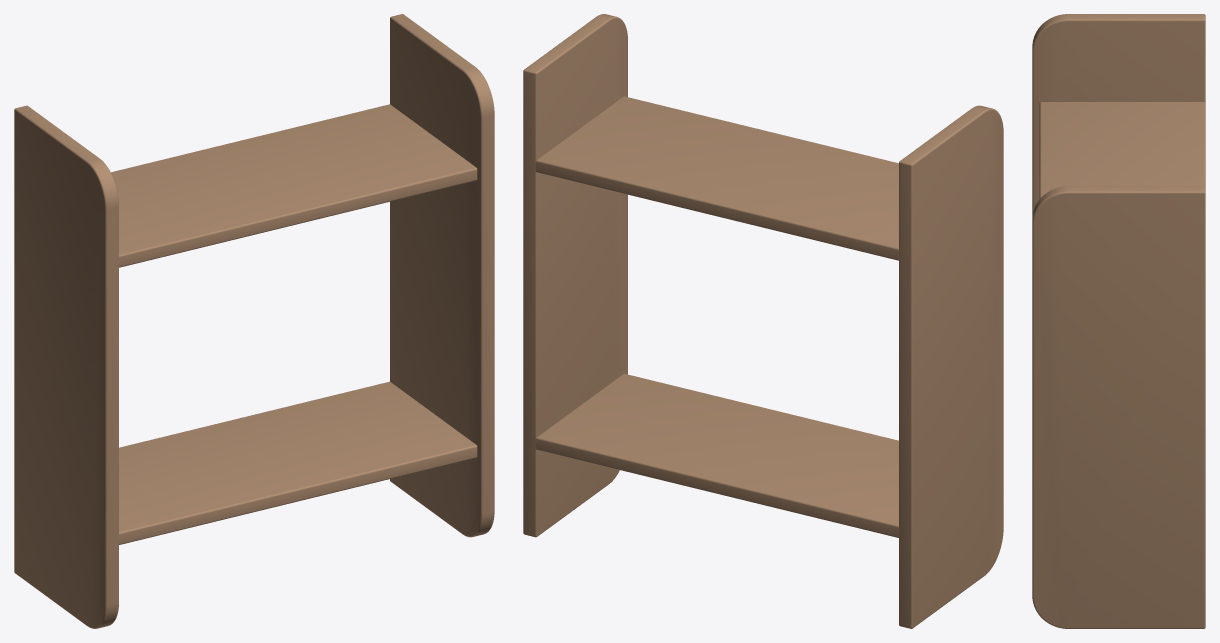
Rendered from wall_shelf__8732f5e14a30.glb.
3 views of the same model, side by side, from view 1: azimuth 30°, elevation 25°; view 2: azimuth 150°, elevation 25°; view 3: azimuth 270°, elevation 25° (orthographic). The views are drawn at different scales.
Parts seen in each view (by area): view 1: end_panel.001, end_panel, upper_shelf, lower_shelf; view 2: end_panel.001, end_panel, upper_shelf, lower_shelf; view 3: end_panel, end_panel.001, upper_shelf.
Part boxes in pixels (x1,y1,x2,y2): end_panel.001: [14, 105, 118, 628]; end_panel: [390, 14, 494, 537]; upper_shelf: [111, 104, 477, 267]; lower_shelf: [119, 381, 477, 544]; end_panel.001: [899, 105, 1003, 628]; end_panel: [523, 14, 627, 537]; upper_shelf: [535, 96, 899, 260]; lower_shelf: [535, 373, 899, 537]; end_panel: [1032, 186, 1205, 628]; end_panel.001: [1032, 14, 1205, 215]; upper_shelf: [1039, 102, 1205, 198].
Bounding box in the file's own units: 0.7012 × 0.8 × 0.2873.
